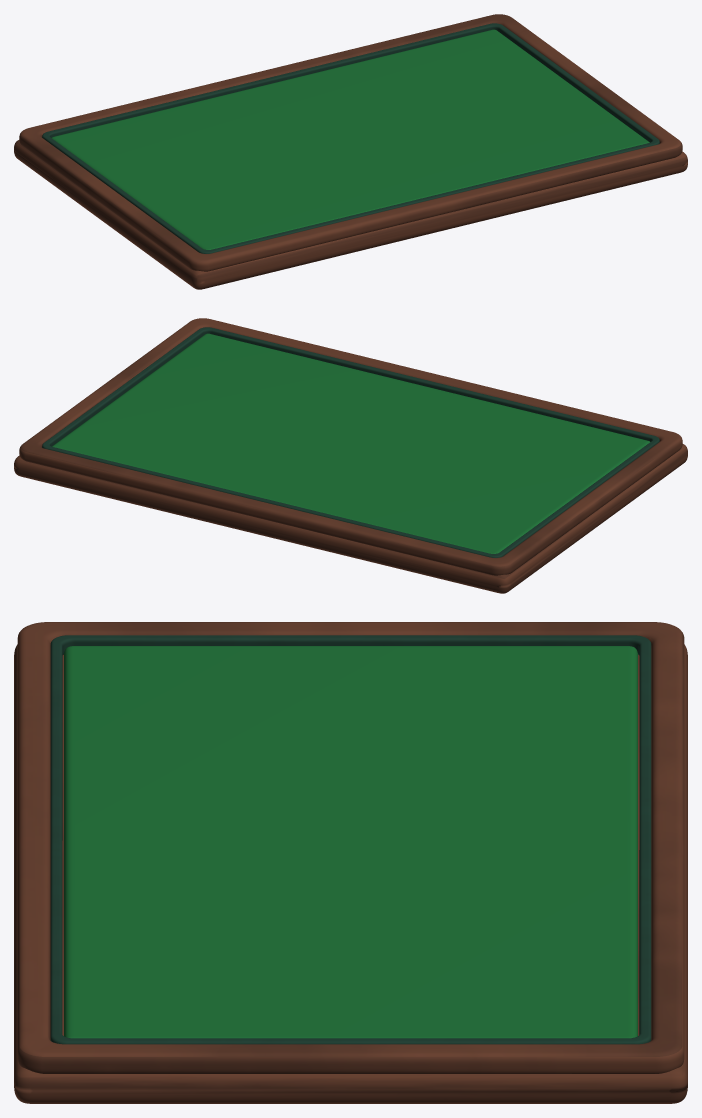
File: neijiang_table_v2.glb
The picture shows the model from 3 angles, top to bottom: view 1: azimuth 30°, elevation 25°; view 2: azimuth 150°, elevation 25°; view 3: azimuth 270°, elevation 25°; orthographic projection. The views are drawn at different scales.
Parts seen in each view (by area): view 1: TableFelt, WalnutApronRing, TableWalnutBase, LeatherGasketRing; view 2: TableFelt, WalnutApronRing, TableWalnutBase, LeatherGasketRing; view 3: TableFelt, WalnutApronRing, TableWalnutBase, LeatherGasketRing.
Part boxes in pixels (box(x1,y1,x2,y2)): TableFelt: box(52, 29, 649, 249); WalnutApronRing: box(19, 14, 682, 271); TableWalnutBase: box(14, 140, 687, 289); LeatherGasketRing: box(42, 23, 659, 253); TableFelt: box(52, 333, 650, 553); WalnutApronRing: box(19, 318, 682, 575); TableWalnutBase: box(14, 444, 687, 593); LeatherGasketRing: box(42, 327, 659, 557); TableFelt: box(64, 646, 637, 1038); WalnutApronRing: box(17, 622, 684, 1073); TableWalnutBase: box(14, 644, 687, 1103); LeatherGasketRing: box(50, 635, 651, 1044).
Bounding box in the file's own units: 14.8 × 0.81 × 9.6.
Materials: 4 (3 with a texture image).
